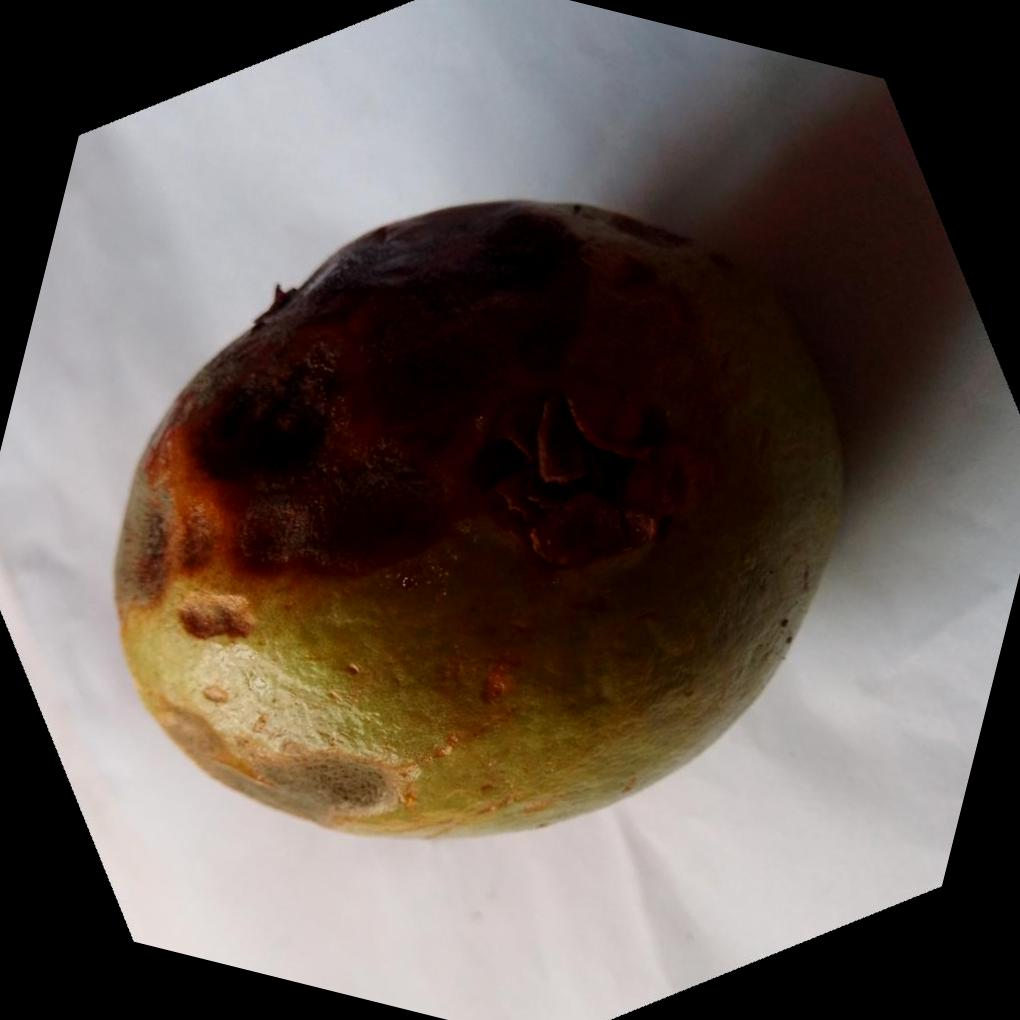FreshOrange: (112, 193, 849, 840)
